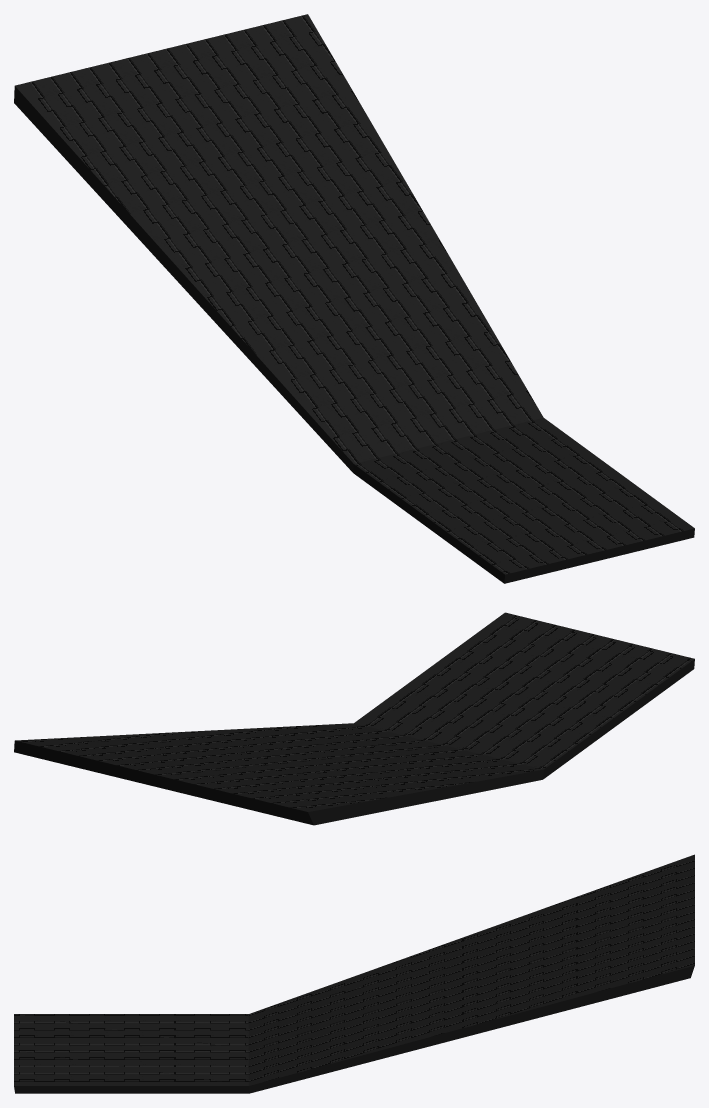
File: Launcherpeec2.fbx
The picture shows the model from 3 angles, top to bottom: view 1: azimuth 30°, elevation 25°; view 2: azimuth 150°, elevation 25°; view 3: azimuth 270°, elevation 25°; orthographic projection. The views are drawn at different scales.
Visible parts, largest first — view 1: Cube.002; view 2: Cube.002; view 3: Cube.002.
Part boxes in pixels (left/top/right/bottom): Cube.002: left=14, top=14, right=694, bottom=583; Cube.002: left=14, top=612, right=694, bottom=825; Cube.002: left=14, top=854, right=694, bottom=1093.
Size of the model in its own units: 866 by 2194 by 525.
